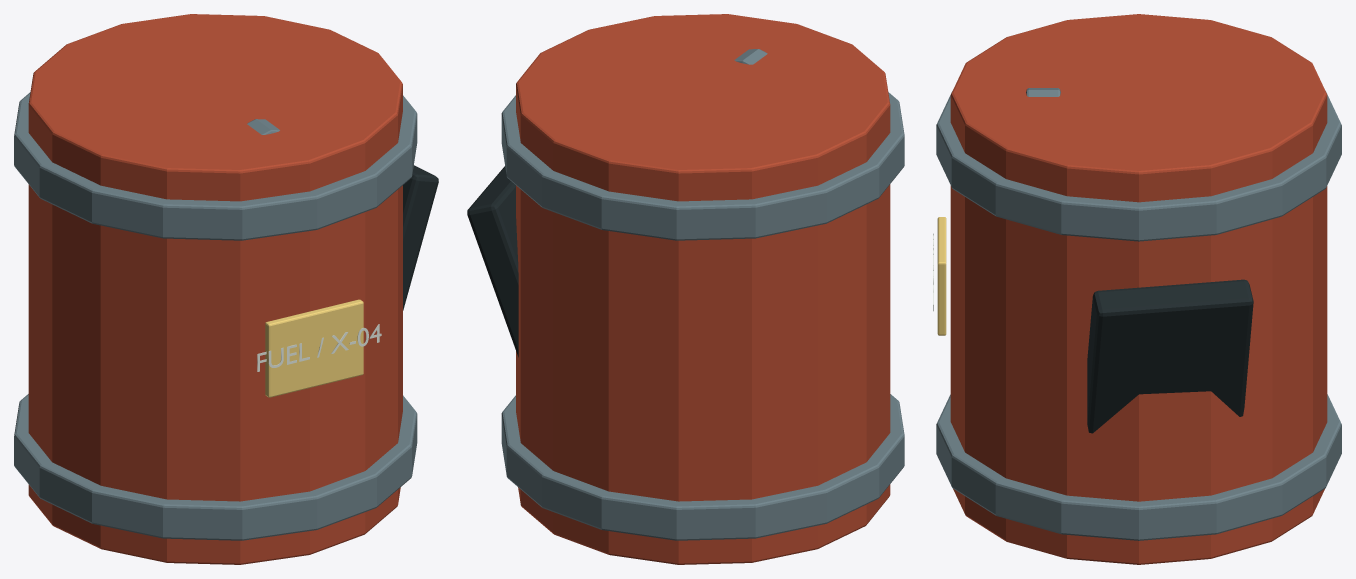
The model's file is fuel_barrel_d1.glb.
The picture shows the model from 3 angles, left to right: view 1: azimuth 30°, elevation 25°; view 2: azimuth 150°, elevation 25°; view 3: azimuth 270°, elevation 25°; orthographic projection.
Parts seen in each view (by area): view 1: Barrel body.007, Barrel rim.015, Barrel rim.014, Fuel placard.007, Runover side dent.002, Hazard stencil.007; view 2: Barrel body.007, Barrel rim.014, Barrel rim.015, Runover side dent.002; view 3: Barrel body.007, Runover side dent.002, Barrel rim.015, Barrel rim.014, Fuel placard.007.
Part boxes in pixels (x1,y1,x2,y2): Barrel body.007: (28,14,402,564); Barrel rim.015: (14,92,417,240); Barrel rim.014: (14,394,417,540); Fuel placard.007: (265,299,363,397); Runover side dent.002: (403,165,438,310); Hazard stencil.007: (257,324,381,371); Barrel body.007: (516,14,890,564); Barrel rim.014: (501,394,904,540); Barrel rim.015: (501,92,904,240); Runover side dent.002: (467,166,518,357); Barrel body.007: (950,14,1327,564); Runover side dent.002: (1087,279,1253,433); Barrel rim.015: (936,91,1341,241); Barrel rim.014: (936,394,1341,540); Fuel placard.007: (937,217,946,335).
Bounding box in the file's own units: 1.51 × 1.51 × 1.41.
